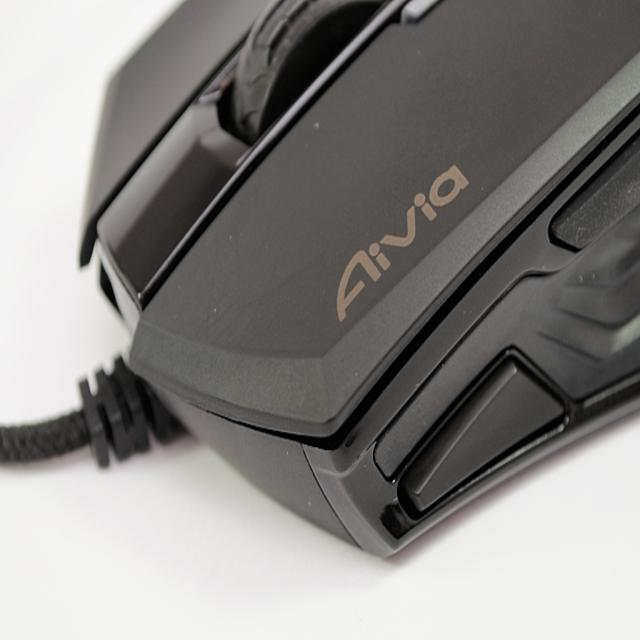Computer-mouse: (74, 0, 638, 557)
